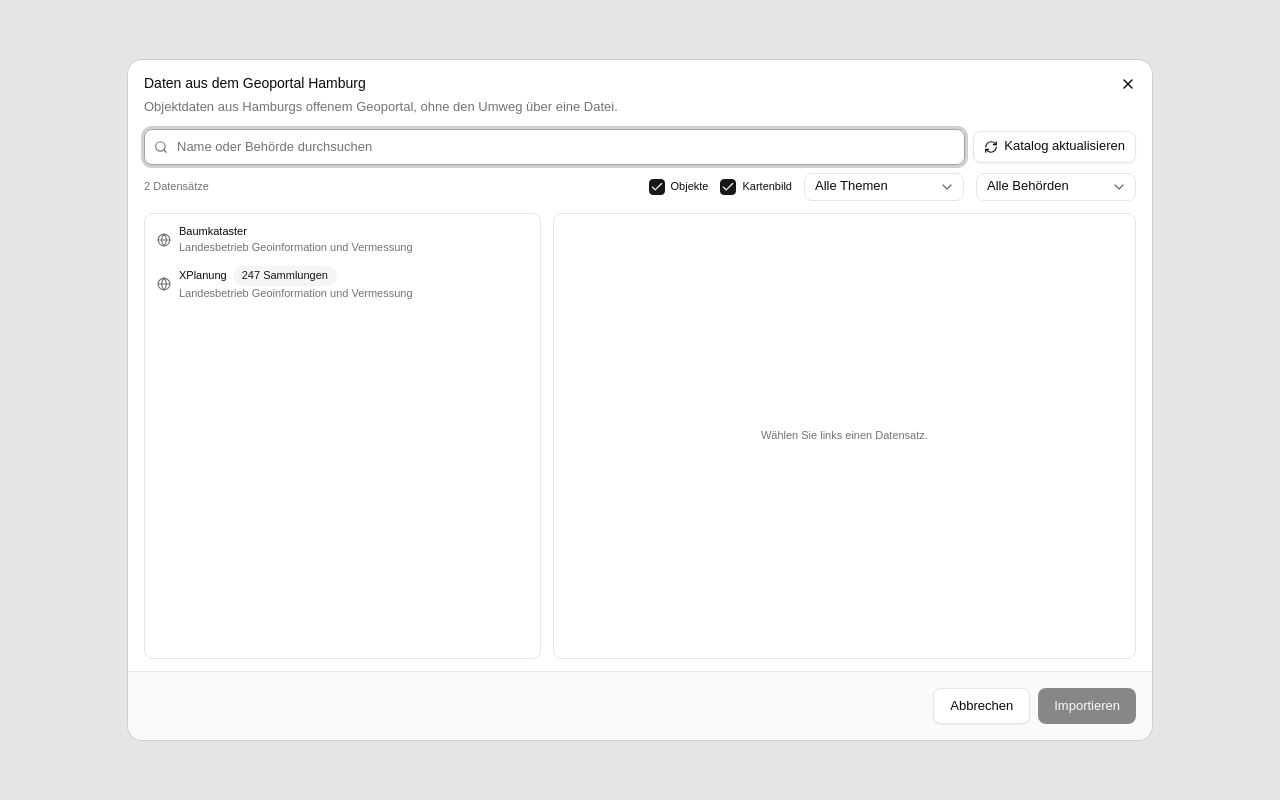
GeoportalDialog collection choice › narrows the collection list to the search
Click the button "XPlanung" at (203, 275), box [149, 262, 536, 306]
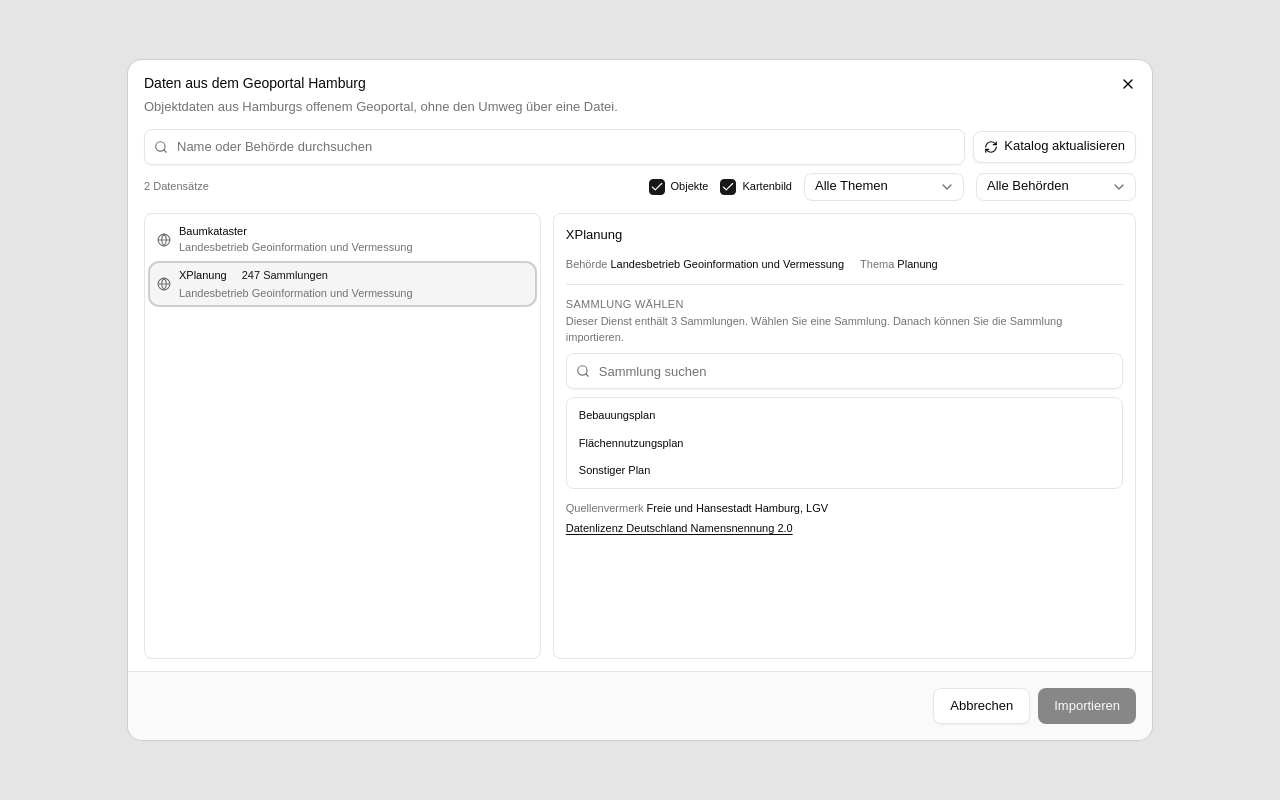
Type "flächen" into the field named "Sammlungen durchsuchen" at (844, 371), box [566, 353, 1123, 389]
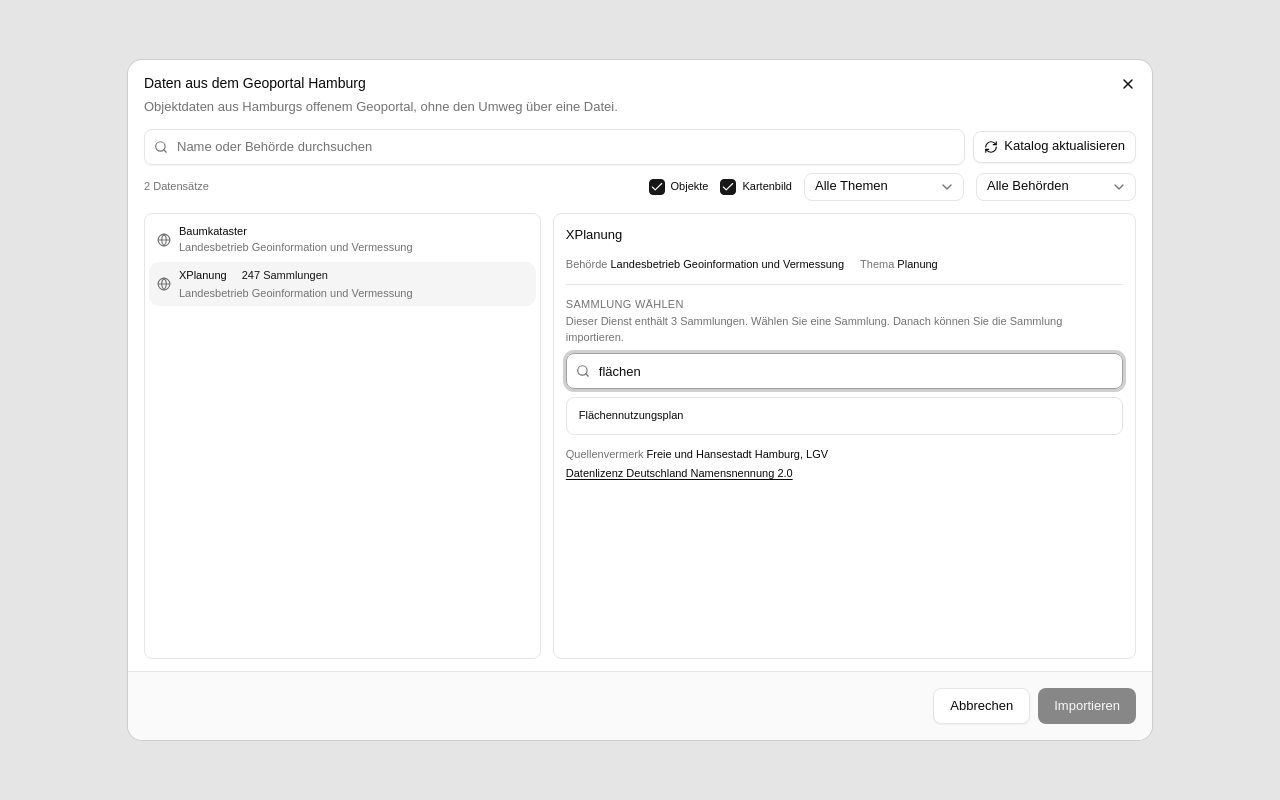
Expected: the button "Flächennutzungsplan" is shown, [571, 402, 1118, 430]
Expected: the button "Bebauungsplan" is gone
